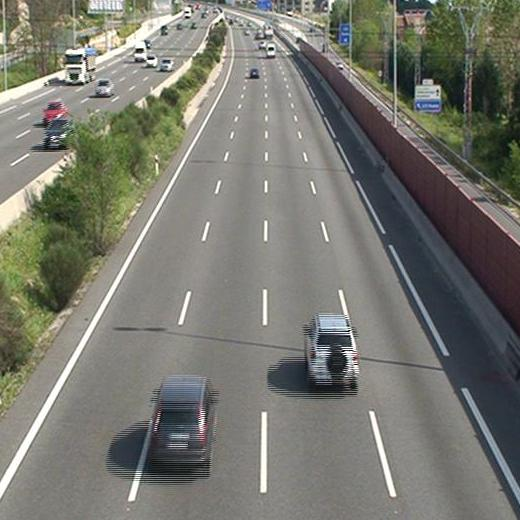car: (150, 376, 216, 471), (304, 314, 360, 390), (250, 69, 259, 79)
van: (266, 43, 277, 59)
